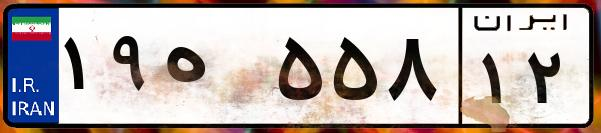1: (57, 26, 110, 100), (475, 38, 525, 113)
2: (525, 38, 570, 115)
5: (270, 28, 330, 110), (330, 28, 385, 110)
8: (385, 28, 445, 110)
9: (110, 28, 158, 98)
ه: (158, 20, 270, 120)
